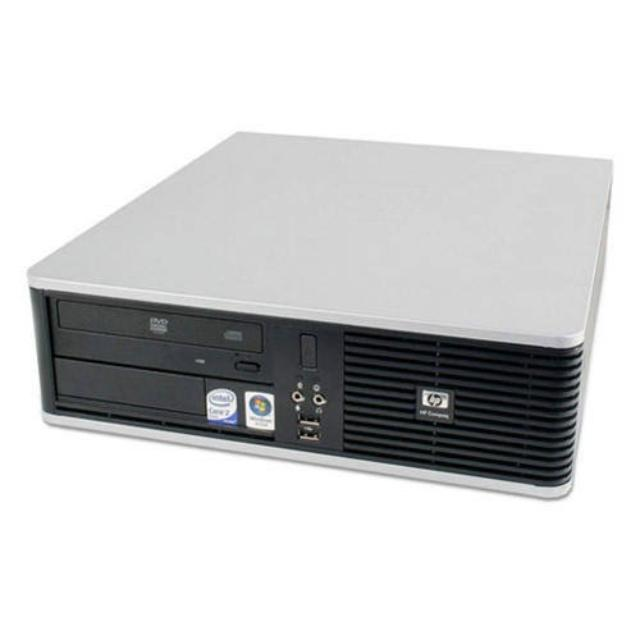Desktop-PC: (31, 120, 614, 502)
